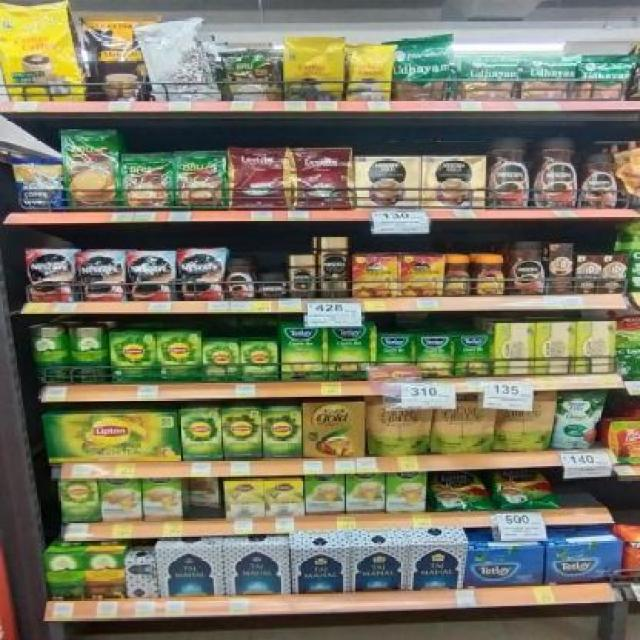Coffee: (487, 140, 530, 210), (535, 138, 577, 208), (27, 250, 76, 301), (128, 251, 177, 300), (176, 251, 224, 300), (80, 253, 128, 302), (508, 240, 546, 294), (580, 154, 616, 208), (321, 237, 350, 298), (443, 256, 472, 296), (477, 256, 505, 296), (226, 260, 254, 300), (290, 255, 316, 298), (258, 273, 290, 299)
